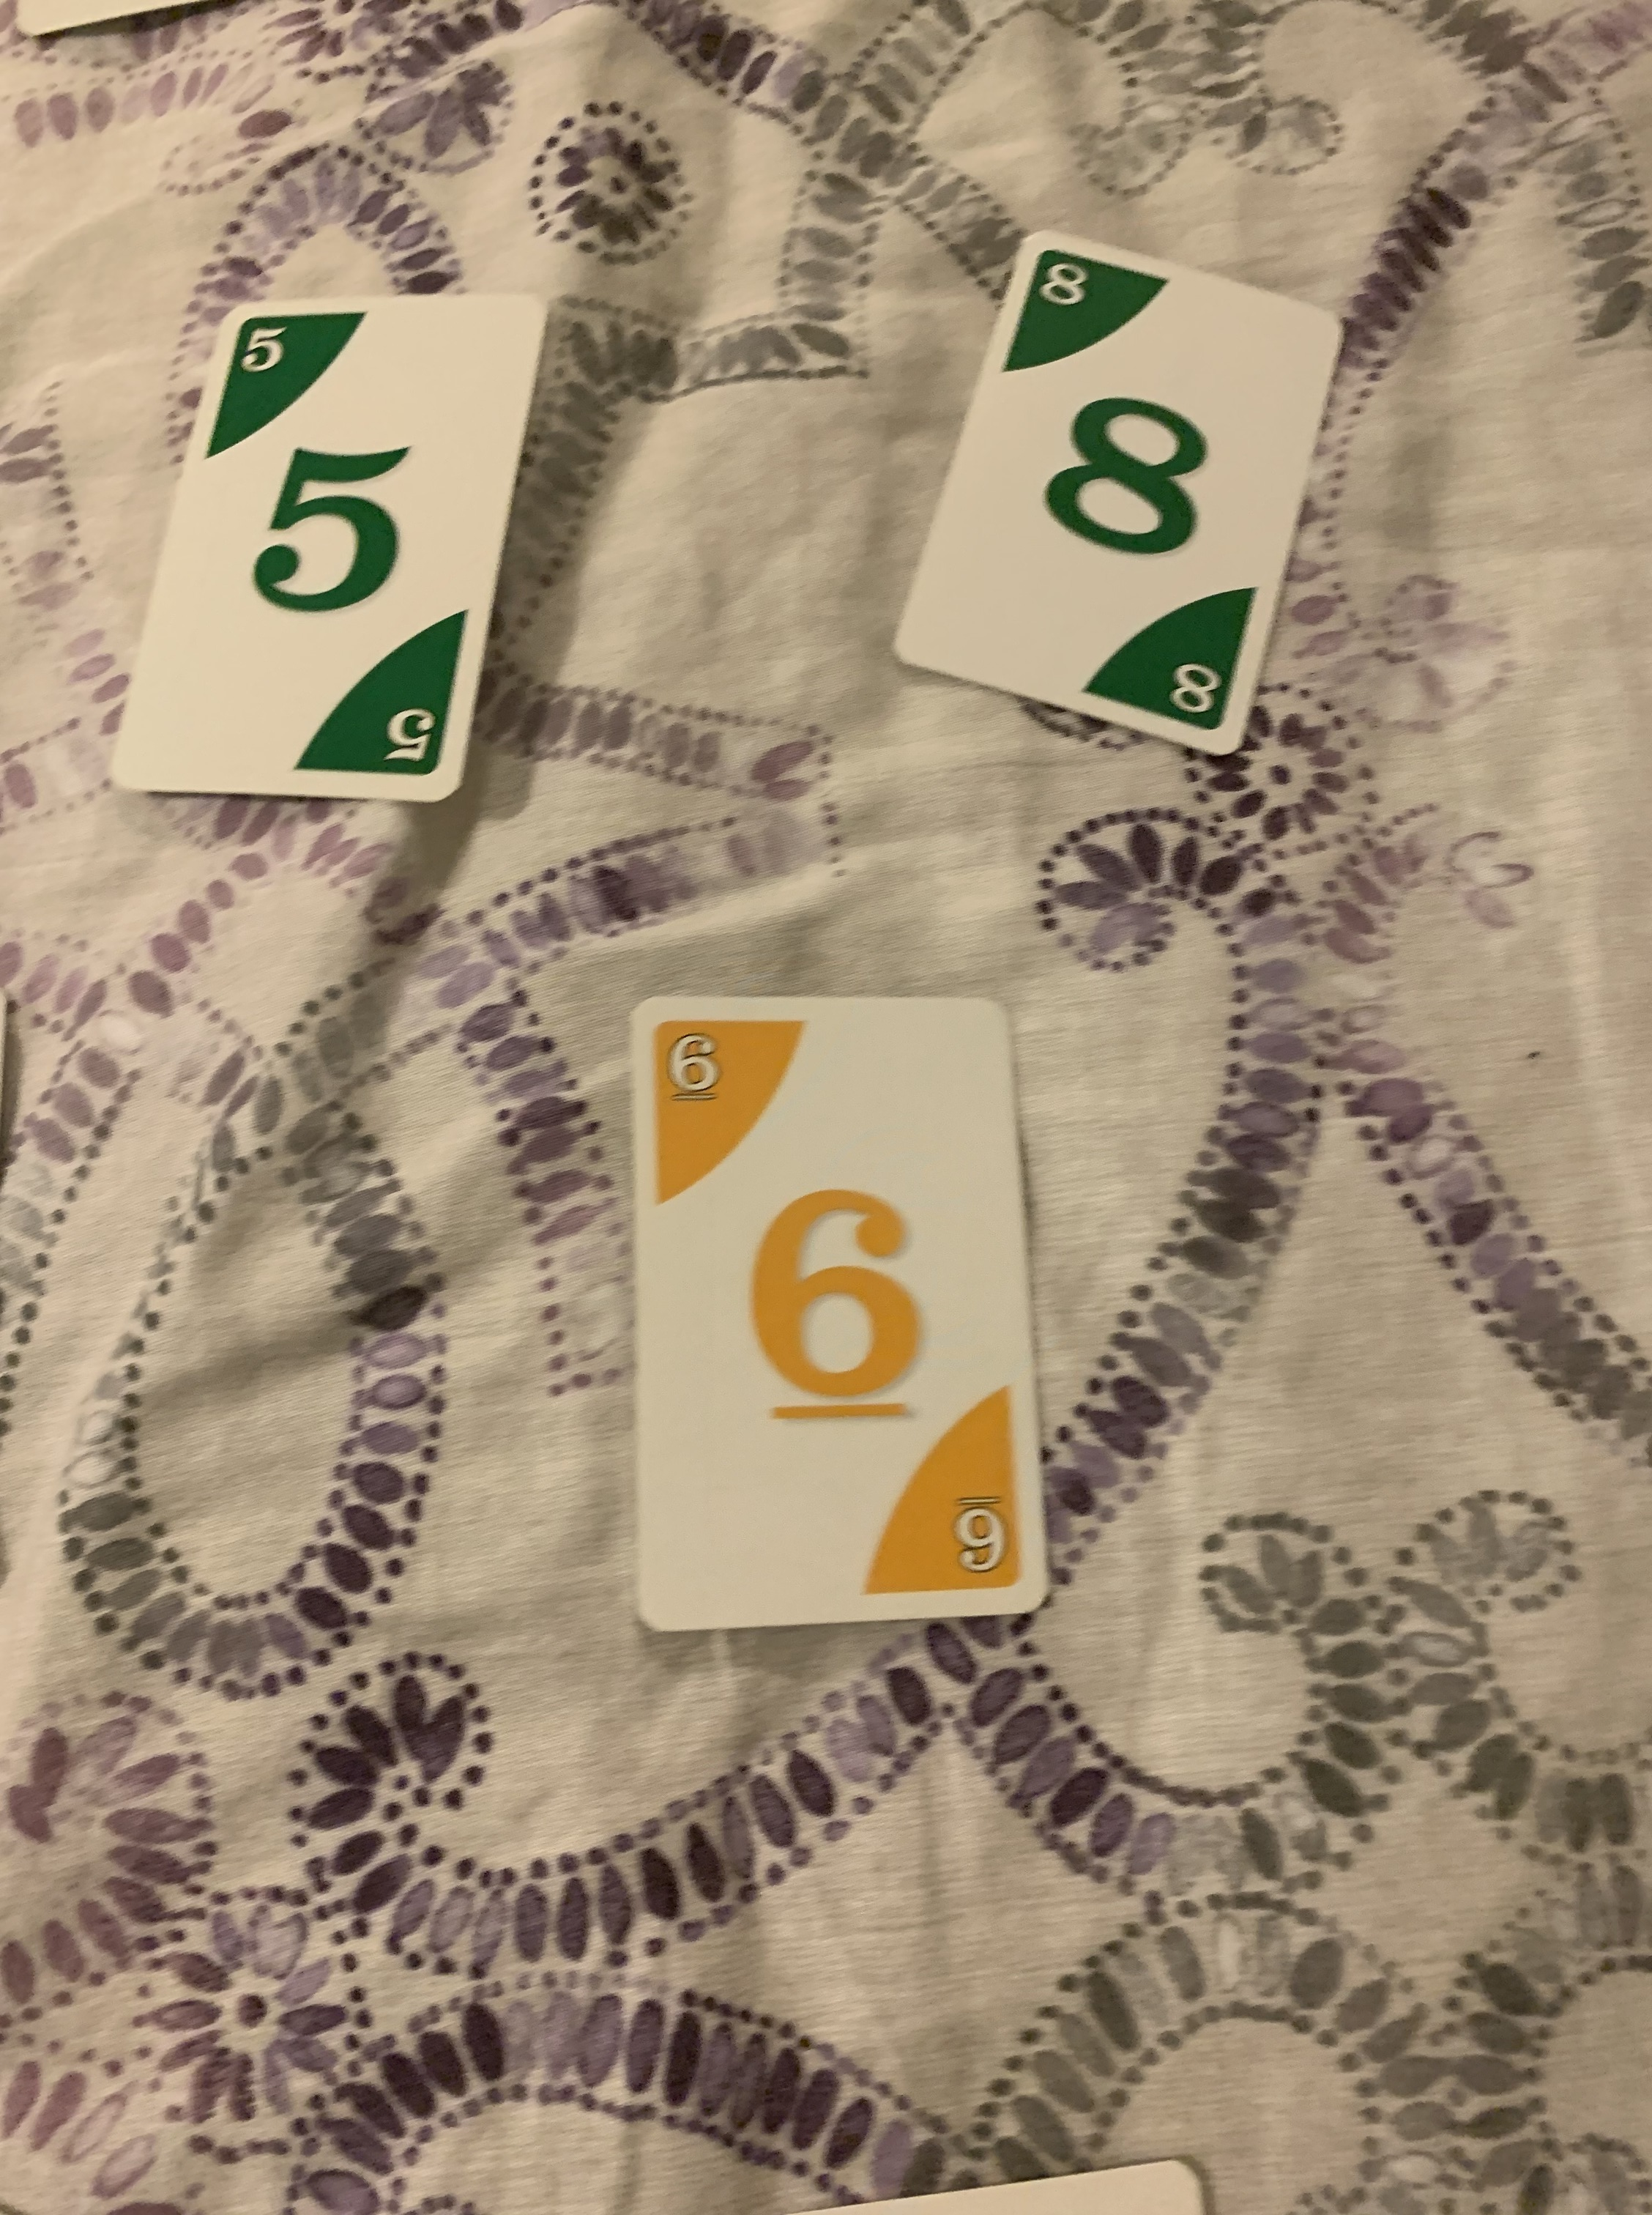eight: (894, 220, 1352, 760)
five: (109, 290, 555, 809)
six: (616, 983, 1048, 1640)
